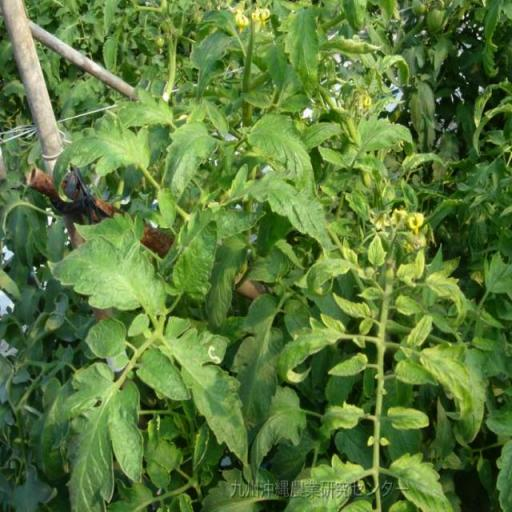disease_tomato: (241, 176, 347, 258), (244, 114, 328, 192), (278, 4, 330, 108), (278, 309, 342, 384), (418, 347, 476, 423), (392, 449, 461, 512), (428, 264, 474, 330), (354, 112, 418, 156), (306, 246, 358, 298), (318, 398, 370, 442), (332, 290, 374, 334), (394, 357, 442, 388), (386, 406, 436, 434), (326, 348, 370, 378), (395, 248, 425, 290), (365, 232, 395, 272), (392, 291, 426, 317)
